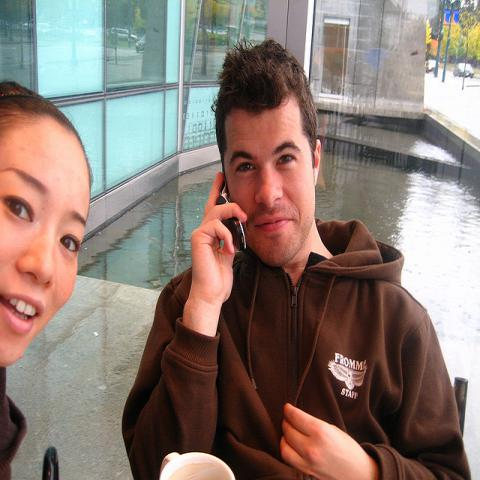car: (453, 63, 474, 78), (425, 59, 437, 73)
